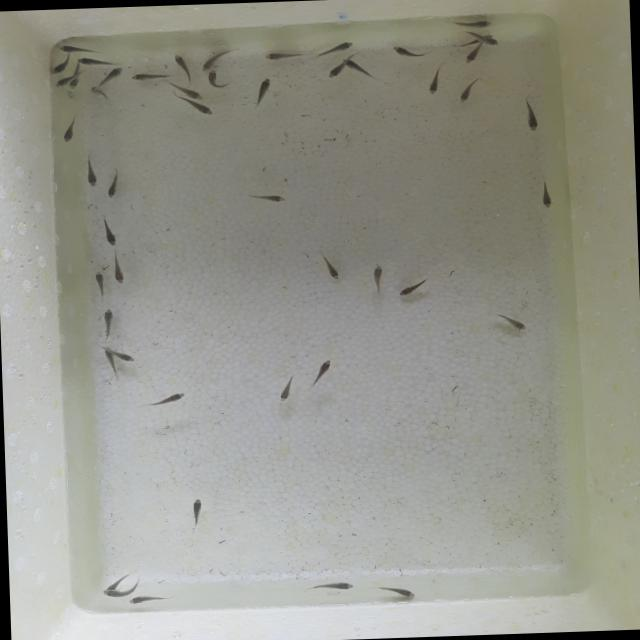fingerling: (487, 308, 528, 334), (194, 48, 238, 71), (518, 92, 542, 134), (308, 358, 338, 387), (343, 56, 379, 80), (316, 248, 342, 281), (108, 249, 130, 288), (423, 65, 449, 98), (456, 75, 484, 105), (388, 42, 430, 61), (251, 76, 275, 109), (372, 583, 416, 601), (100, 169, 124, 202), (143, 391, 188, 408), (396, 277, 432, 298), (367, 260, 386, 298), (276, 371, 298, 402), (306, 581, 358, 594), (56, 40, 98, 56), (315, 40, 356, 56), (98, 215, 119, 246), (60, 113, 81, 143), (188, 496, 206, 530), (82, 155, 100, 189), (261, 49, 307, 62), (247, 190, 289, 204), (184, 99, 218, 116), (98, 66, 126, 86), (450, 16, 492, 29), (538, 176, 554, 210), (91, 268, 108, 299), (78, 54, 121, 66), (100, 307, 116, 338), (125, 594, 173, 604), (206, 70, 230, 90), (171, 52, 189, 78), (474, 31, 503, 47), (129, 72, 172, 82), (49, 58, 74, 75), (115, 348, 138, 366), (182, 83, 206, 100), (461, 49, 482, 66), (323, 64, 345, 80), (102, 586, 134, 597), (88, 87, 110, 101), (52, 75, 67, 88), (68, 80, 82, 92)
